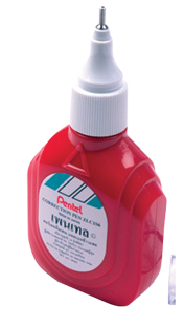Correction_fluid: (23, 2, 169, 311)
